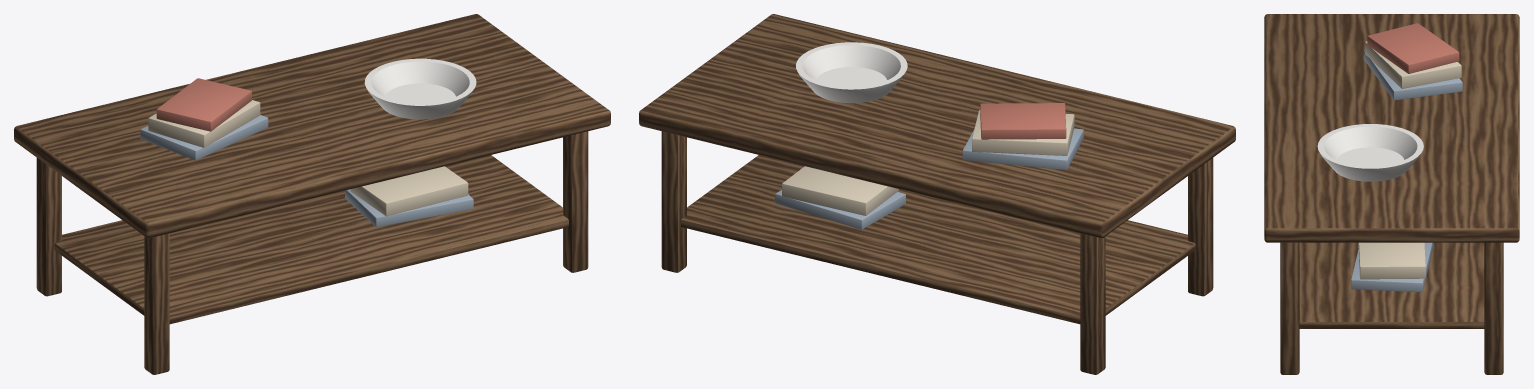
File: mesa-centro-nogal-v2.gltf
3 renders of one model, left to right at view 1: azimuth 30°, elevation 25°; view 2: azimuth 150°, elevation 25°; view 3: azimuth 270°, elevation 25°, orthographic. The views are drawn at different scales.
Parts seen in each view (by area): view 1: mesa-centro-nogal__w_nogal_x, mesa-centro-nogal__w_nogal, mesa-centro-nogal__p_libro2, mesa-centro-nogal__k_ceramica, mesa-centro-nogal__p_libro1, mesa-centro-nogal__p_libro3; view 2: mesa-centro-nogal__w_nogal_x, mesa-centro-nogal__w_nogal, mesa-centro-nogal__k_ceramica, mesa-centro-nogal__p_libro2, mesa-centro-nogal__p_libro1, mesa-centro-nogal__p_libro3; view 3: mesa-centro-nogal__w_nogal_x, mesa-centro-nogal__w_nogal, mesa-centro-nogal__k_ceramica, mesa-centro-nogal__p_libro2, mesa-centro-nogal__p_libro3, mesa-centro-nogal__p_libro1.
Boxes of the visible parts, <box> form: mesa-centro-nogal__w_nogal_x: <box>14,14,610,324</box>; mesa-centro-nogal__w_nogal: <box>36,131,588,374</box>; mesa-centro-nogal__p_libro2: <box>148,100,468,216</box>; mesa-centro-nogal__k_ceramica: <box>364,58,476,119</box>; mesa-centro-nogal__p_libro1: <box>140,115,473,227</box>; mesa-centro-nogal__p_libro3: <box>156,78,251,131</box>; mesa-centro-nogal__w_nogal_x: <box>639,14,1235,324</box>; mesa-centro-nogal__w_nogal: <box>661,131,1213,374</box>; mesa-centro-nogal__k_ceramica: <box>796,42,907,103</box>; mesa-centro-nogal__p_libro2: <box>782,110,1074,215</box>; mesa-centro-nogal__p_libro1: <box>775,128,1083,229</box>; mesa-centro-nogal__p_libro3: <box>980,103,1066,139</box>; mesa-centro-nogal__w_nogal_x: <box>1264,14,1519,328</box>; mesa-centro-nogal__w_nogal: <box>1280,242,1503,374</box>; mesa-centro-nogal__k_ceramica: <box>1317,124,1423,181</box>; mesa-centro-nogal__p_libro2: <box>1358,41,1461,279</box>; mesa-centro-nogal__p_libro3: <box>1367,23,1459,73</box>; mesa-centro-nogal__p_libro1: <box>1351,50,1462,292</box>.
Size of the model in its own units: 1.2 by 0.483 by 0.6001.
Materials: 7 (2 with a texture image).
